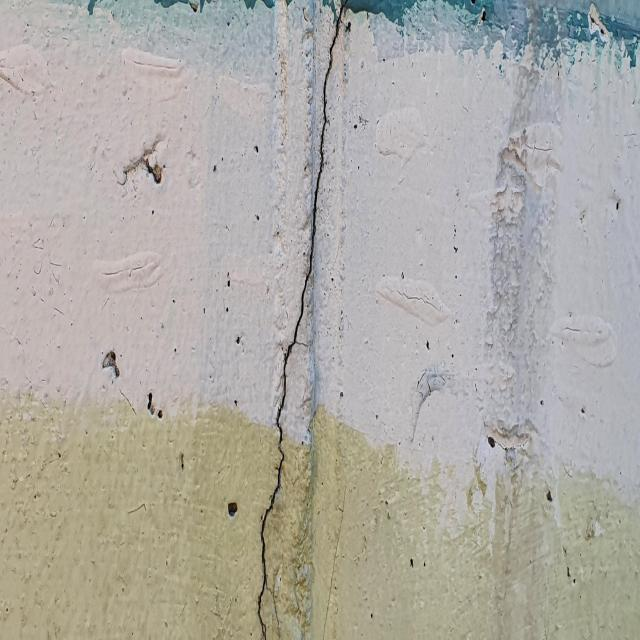SurfaceCrack: (215, 0, 367, 639)
